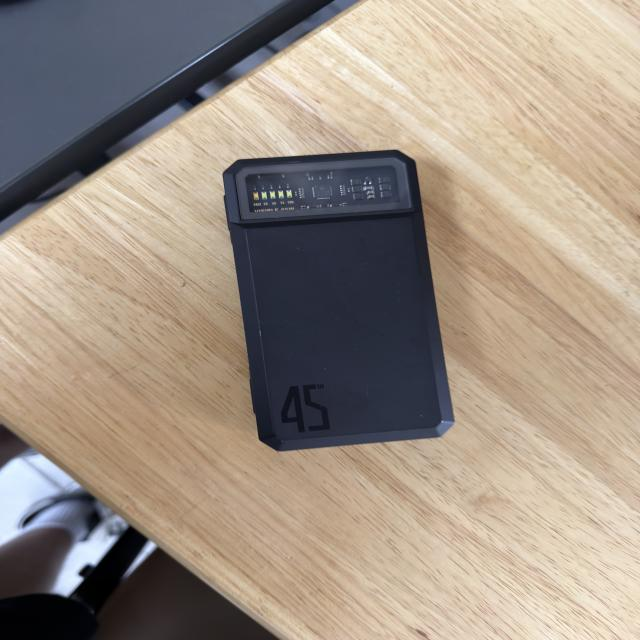power bank: (212, 148, 468, 453)
